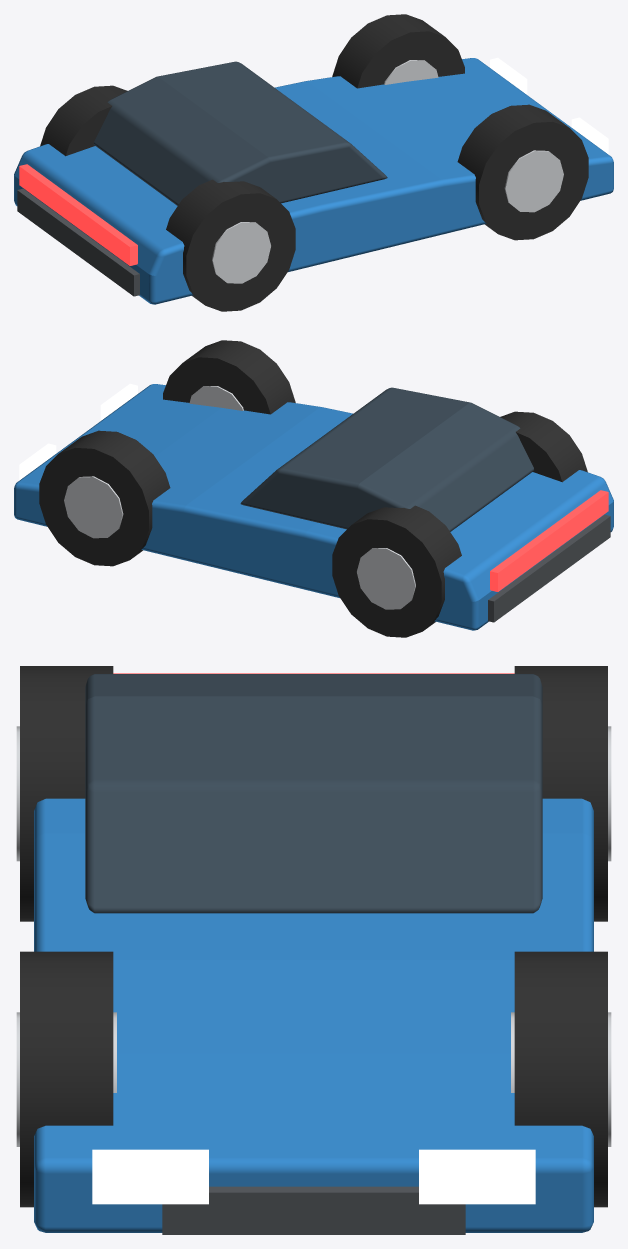
The model's file is sedan.glb.
The picture shows the model from 3 angles, top to bottom: view 1: azimuth 30°, elevation 25°; view 2: azimuth 150°, elevation 25°; view 3: azimuth 270°, elevation 25°; orthographic projection. The views are drawn at different scales.
Visible parts, largest first — view 1: Body, Cabin, Wheel_FR, Wheel_RR, Wheel_FL, Trim, Wheel_RL, Taillights, Headlights; view 2: Body, Cabin, Wheel_FL, Wheel_RL, Wheel_FR, Trim, Wheel_RR, Taillights, Headlights; view 3: Body, Cabin, Wheel_FL, Wheel_FR, Trim, Headlights, Wheel_RL, Wheel_RR.
Boxes of the visible parts, bbox=[...] form: Body: bbox=[14, 58, 613, 304]; Cabin: bbox=[93, 61, 387, 205]; Wheel_FR: bbox=[457, 104, 588, 240]; Wheel_RR: bbox=[166, 179, 295, 311]; Wheel_FL: bbox=[332, 14, 464, 88]; Trim: bbox=[17, 188, 139, 296]; Wheel_RL: bbox=[40, 85, 127, 156]; Taillights: bbox=[19, 164, 137, 265]; Headlights: bbox=[490, 57, 608, 154]; Body: bbox=[14, 384, 613, 630]; Cabin: bbox=[240, 387, 534, 531]; Wheel_FL: bbox=[39, 430, 170, 566]; Wheel_RL: bbox=[332, 505, 461, 637]; Wheel_FR: bbox=[163, 340, 295, 414]; Trim: bbox=[488, 514, 610, 622]; Wheel_RR: bbox=[500, 411, 587, 482]; Taillights: bbox=[490, 490, 608, 591]; Headlights: bbox=[19, 383, 137, 480]; Body: bbox=[34, 798, 593, 1232]; Cabin: bbox=[85, 674, 542, 913]; Wheel_FL: bbox=[511, 951, 611, 1207]; Wheel_FR: bbox=[16, 951, 116, 1207]; Trim: bbox=[162, 1186, 465, 1234]; Headlights: bbox=[92, 1149, 535, 1204]; Wheel_RL: bbox=[514, 666, 611, 921]; Wheel_RR: bbox=[16, 666, 113, 921].
Bounding box in the file's own units: 47.4 × 12.2 × 25.5.
